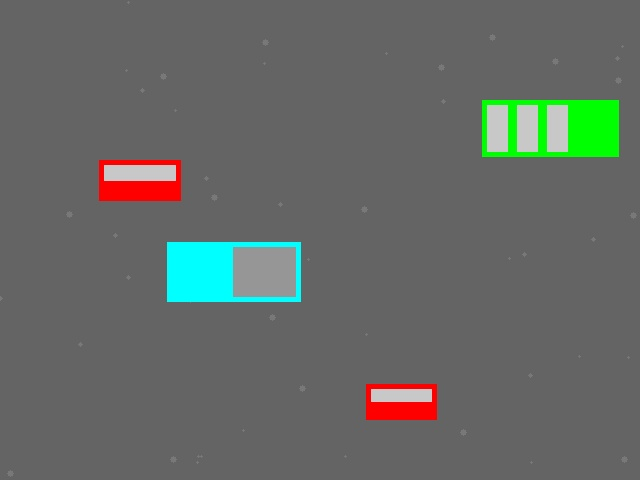bus: (482, 100, 618, 156)
car: (99, 160, 180, 200), (366, 384, 436, 419)
truck: (167, 242, 300, 301)
